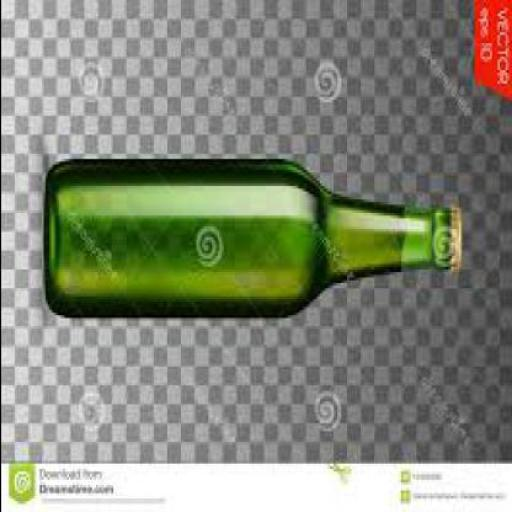glass: (44, 156, 450, 318)
metal: (448, 200, 466, 270)
